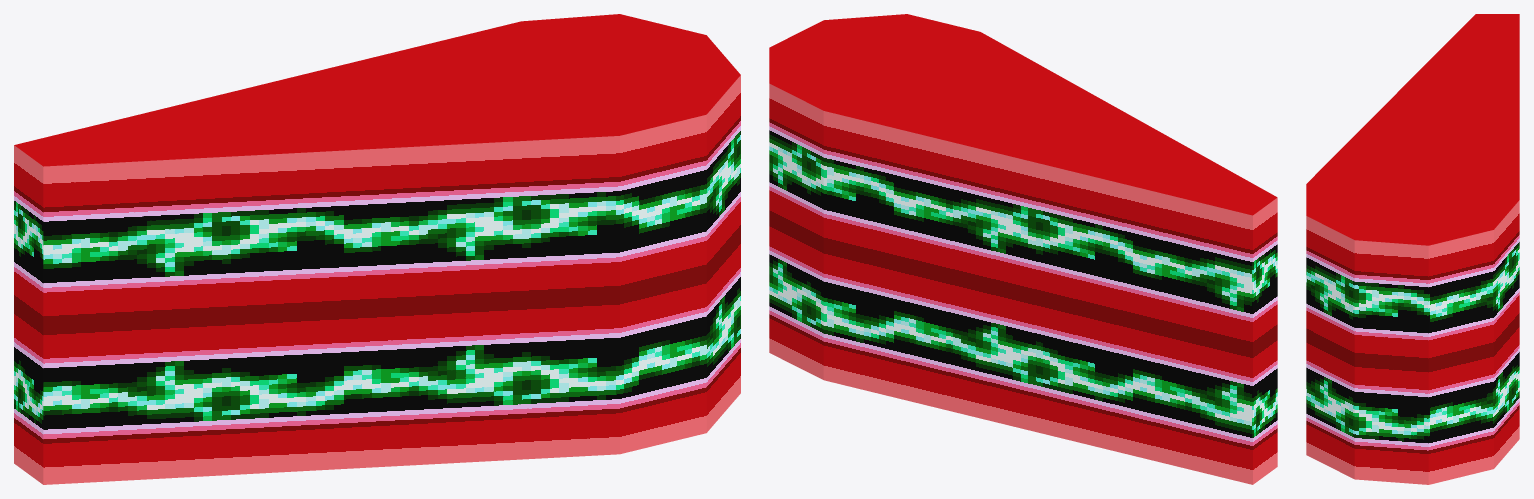
The model's file is pinball_course-flipper.glb.
The picture shows the model from 3 angles, left to right: view 1: azimuth 30°, elevation 25°; view 2: azimuth 150°, elevation 25°; view 3: azimuth 270°, elevation 25°; orthographic projection. The views are drawn at different scales.
Parts seen in each view (by area): view 1: flipper; view 2: flipper; view 3: flipper.
Part boxes in pixels (x1,y1,x2,y2): flipper: [14, 14, 740, 484]; flipper: [769, 14, 1277, 484]; flipper: [1306, 14, 1519, 484].
Size of the model in its own units: 15.58 by 7.5 by 6.06.
Materials: 1 (1 with a texture image).
